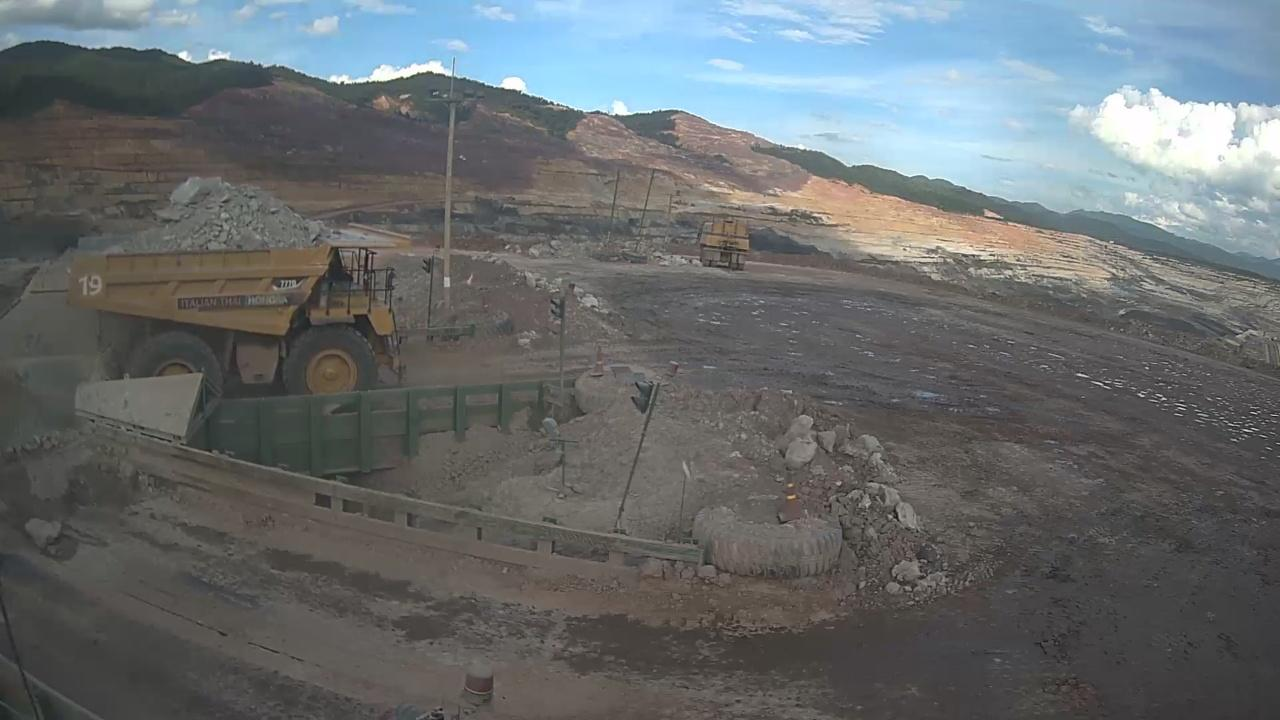full_load: (109, 172, 341, 248)
mining_truck: (64, 158, 407, 399)
tail_number: (77, 267, 106, 299)
truck_size: (268, 273, 314, 290)
